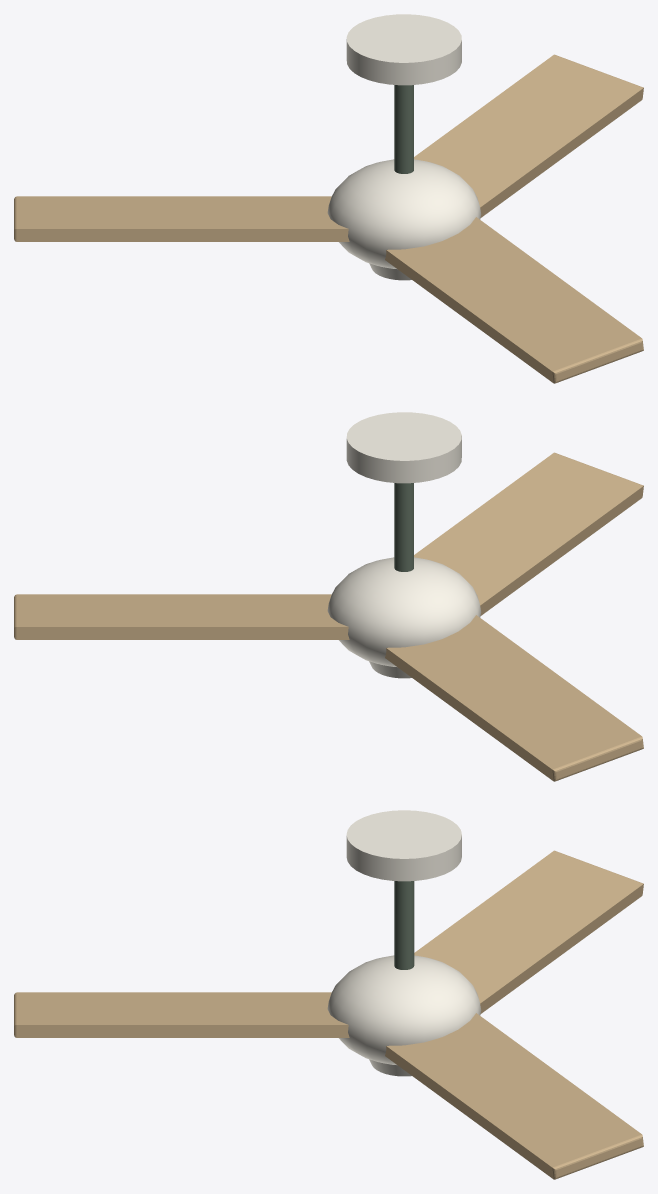
The model's file is ceiling-fan.glb.
3 views of the same model, one above another, from view 1: azimuth 30°, elevation 25°; view 2: azimuth 150°, elevation 25°; view 3: azimuth 270°, elevation 25° (orthographic).
Visible parts, largest first — view 1: Oak fan blade (×3), Motor housing, Ceiling mount, Downrod; view 2: Oak fan blade (×3), Motor housing, Ceiling mount, Downrod; view 3: Oak fan blade (×3), Motor housing, Ceiling mount, Downrod.
Boxes of the visible parts, bbox=[...] form: Oak fan blade (×3): bbox=[14, 54, 643, 383]; Motor housing: bbox=[327, 159, 481, 268]; Ceiling mount: bbox=[346, 14, 461, 85]; Downrod: bbox=[394, 85, 413, 173]; Oak fan blade (×3): bbox=[14, 452, 643, 781]; Motor housing: bbox=[327, 557, 481, 666]; Ceiling mount: bbox=[346, 412, 461, 483]; Downrod: bbox=[394, 483, 413, 571]; Oak fan blade (×3): bbox=[14, 850, 643, 1179]; Motor housing: bbox=[327, 955, 481, 1064]; Ceiling mount: bbox=[346, 810, 461, 881]; Downrod: bbox=[394, 881, 414, 969].
Bounding box in the file's own units: 1.32 × 0.4575 × 1.15.
